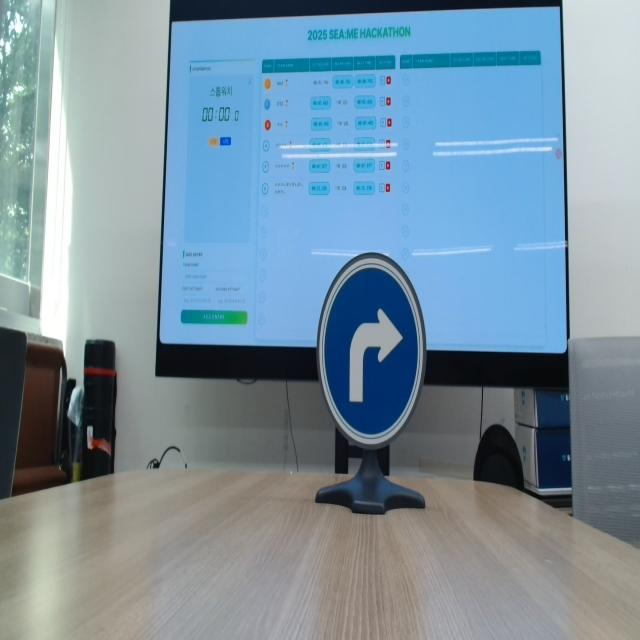right_dierection: (308, 248, 432, 452)
